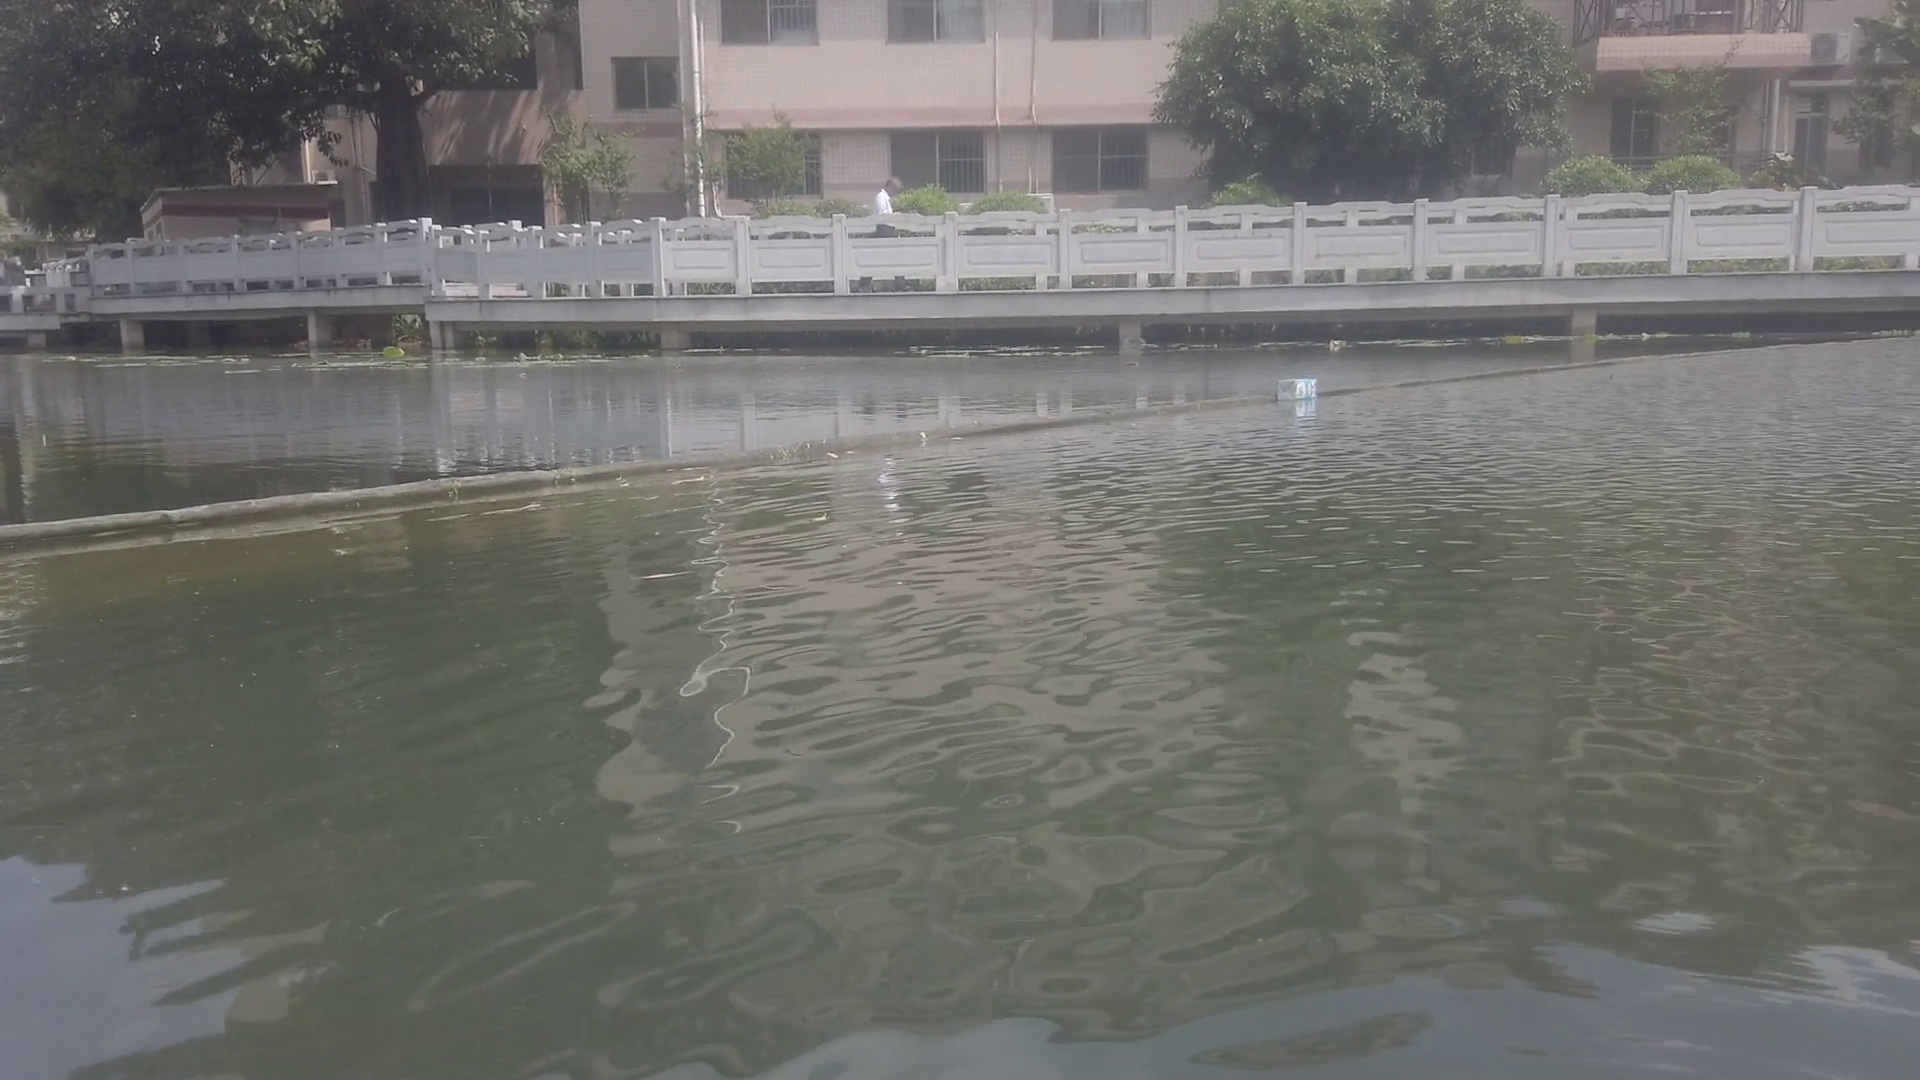carton: (1273, 375, 1320, 400)
